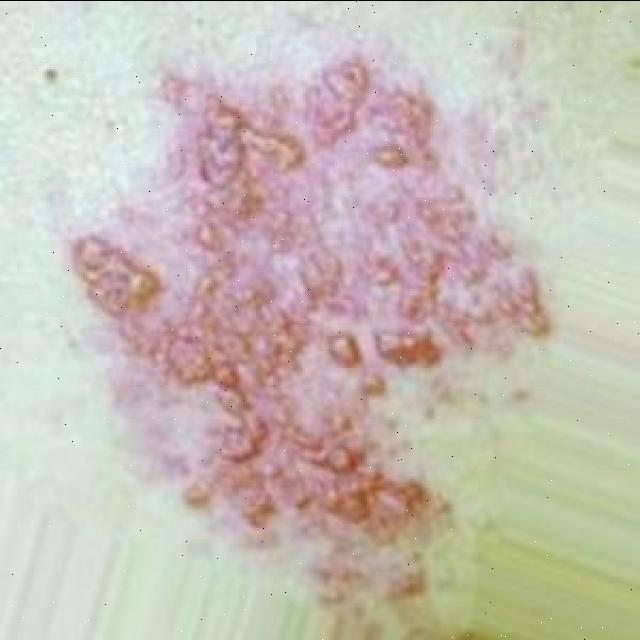Shingles: (62, 52, 548, 584)
